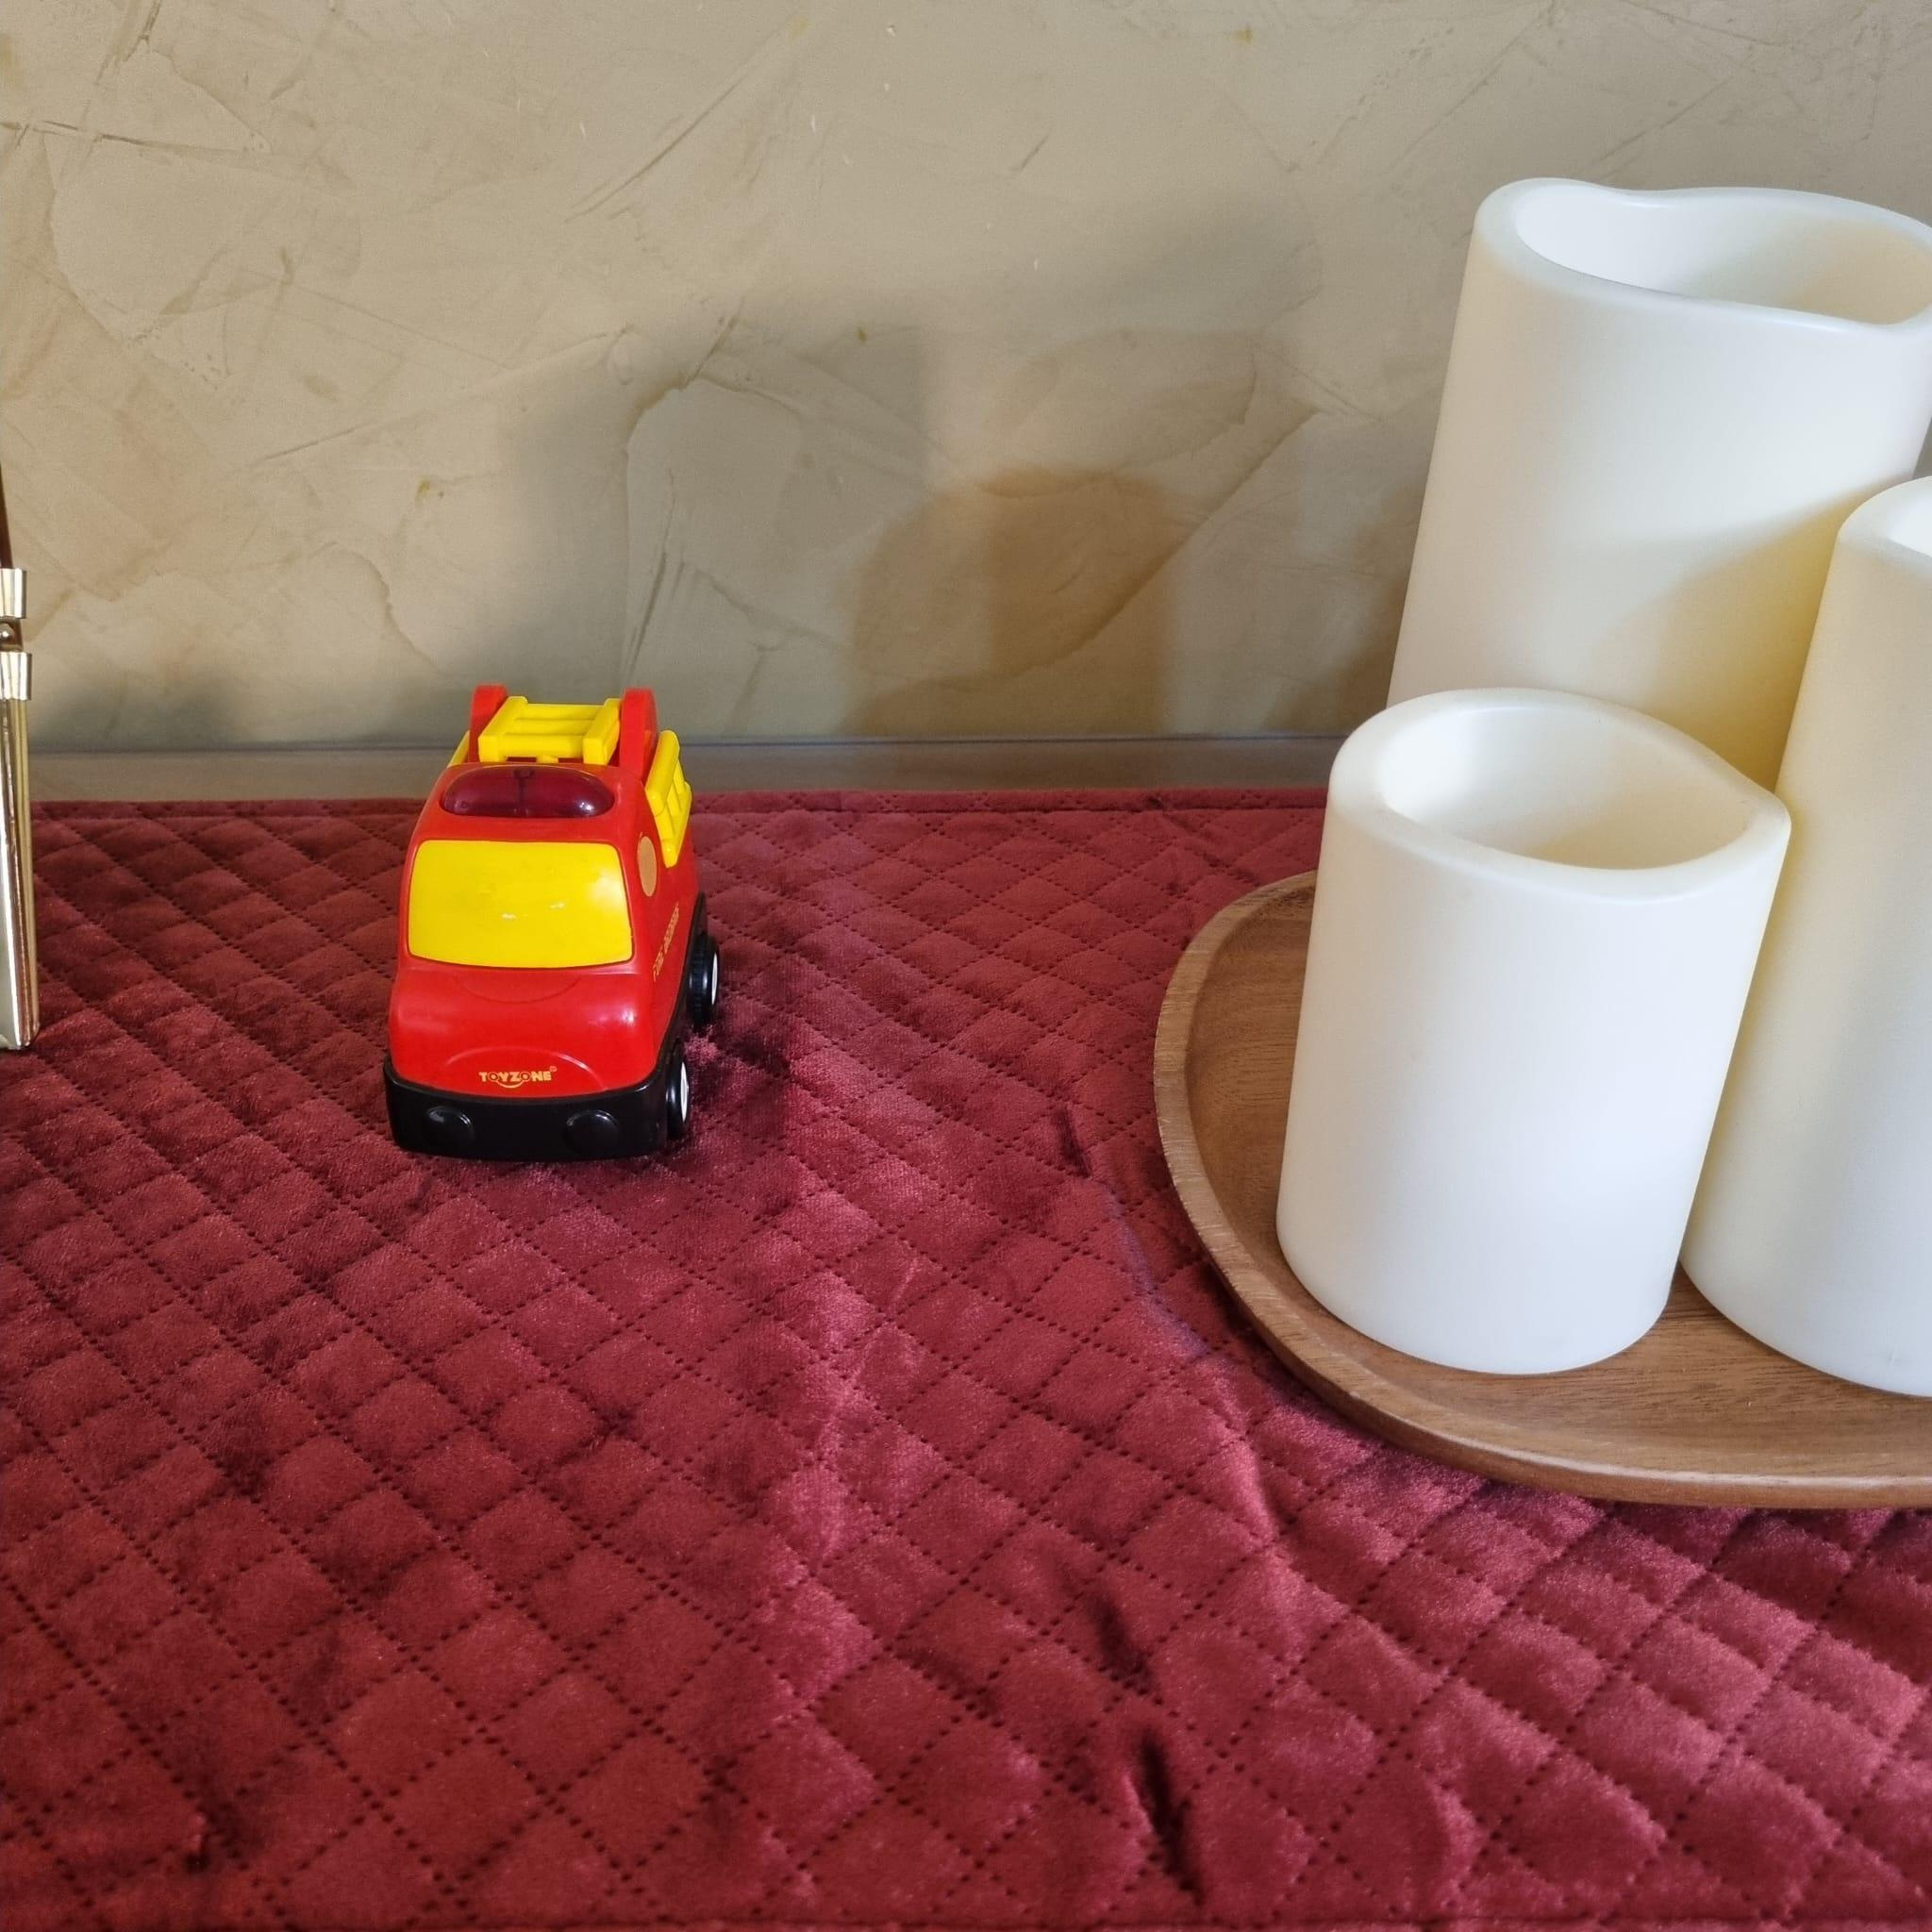firetruck_off: (384, 685, 718, 1162)
